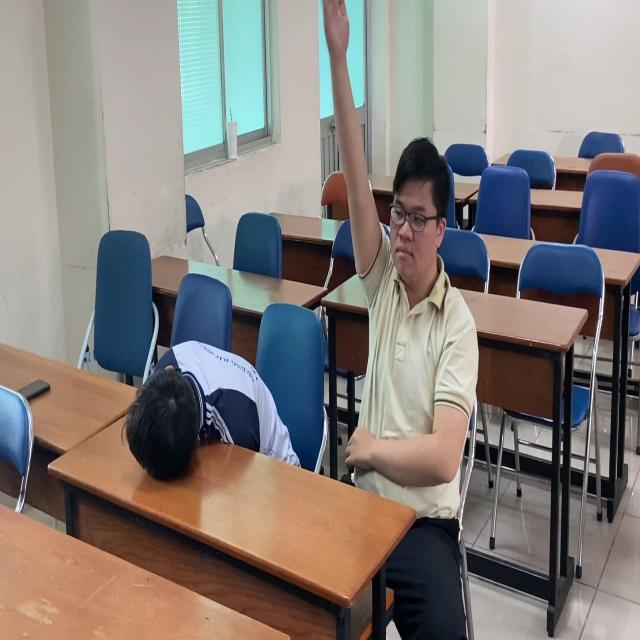raise_hand: (323, 1, 452, 510)
sleep: (109, 328, 294, 487)
